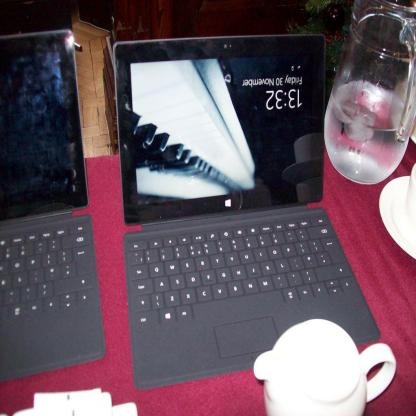board: (113, 32, 380, 392), (0, 27, 107, 380)
